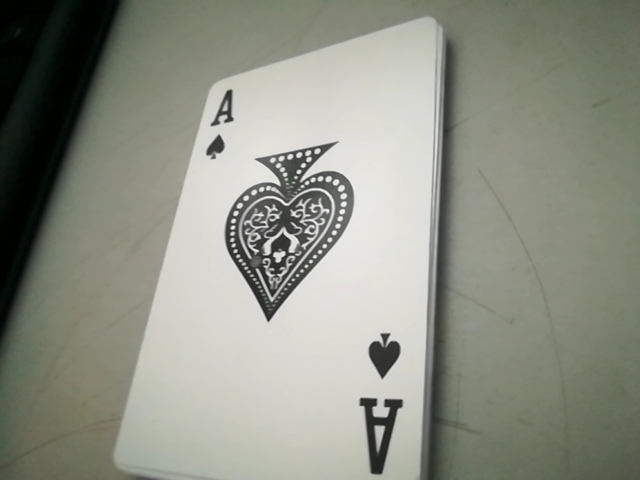ht a: (190, 89, 240, 171)
